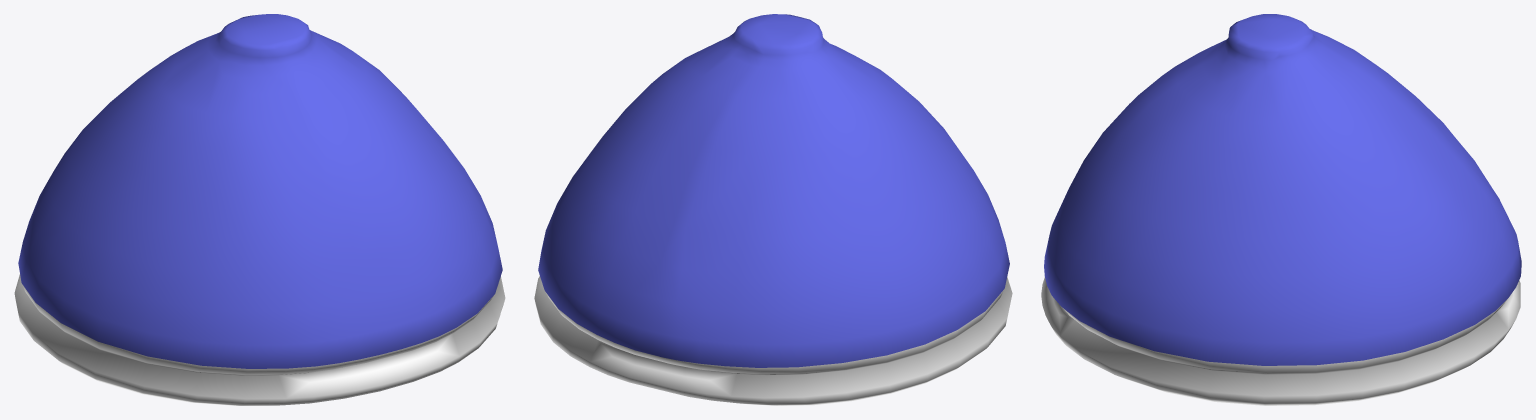
The model's file is Onlyskirt.fbx.
3 views of the same model, side by side, from view 1: azimuth 30°, elevation 25°; view 2: azimuth 150°, elevation 25°; view 3: azimuth 270°, elevation 25° (orthographic). The views are drawn at different scales.
Parts seen in each view (by area): view 1: Skirt; view 2: Skirt; view 3: Skirt.
Part boxes in pixels (bbox=[...]): Skirt: bbox=[14, 14, 505, 405]; Skirt: bbox=[534, 14, 1012, 405]; Skirt: bbox=[1041, 14, 1521, 405].
Size of the model in its own units: 322 by 207 by 323.
